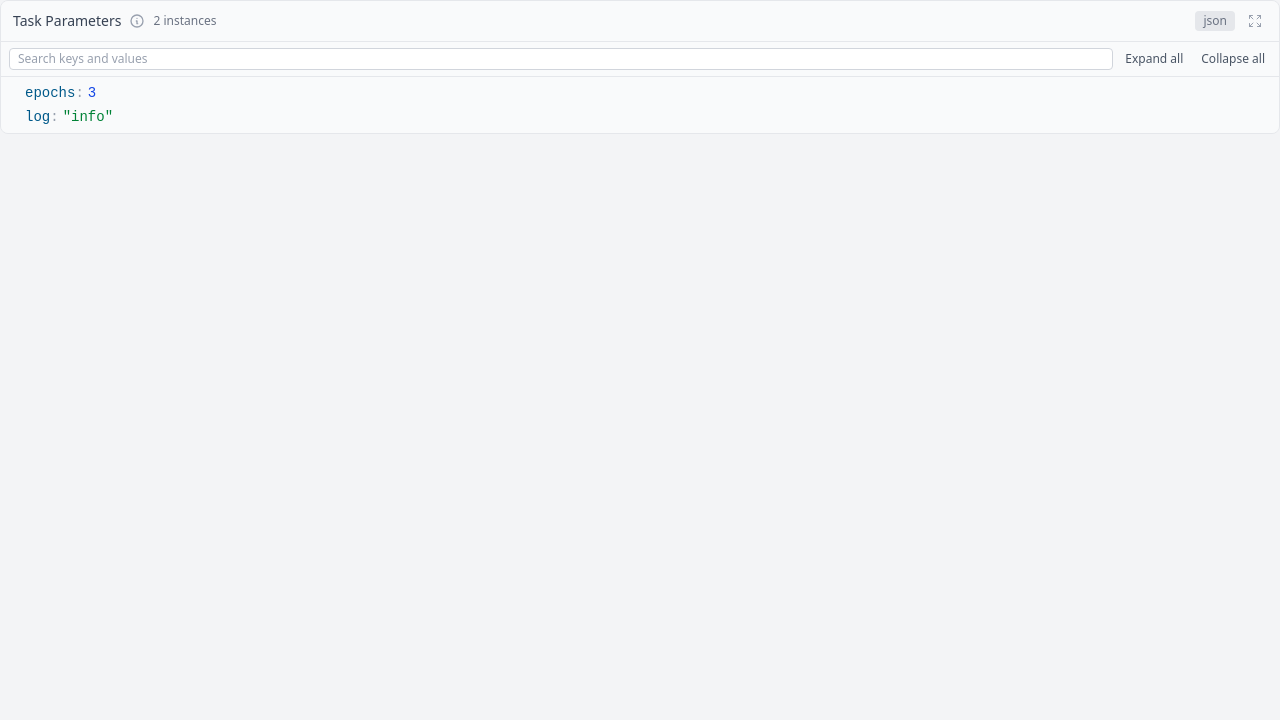
Test: TaskParameters › opens the instance's scope and the other instances from the info icon
Click the button named "Instance info" at (138, 21), box [128,11,148,31]
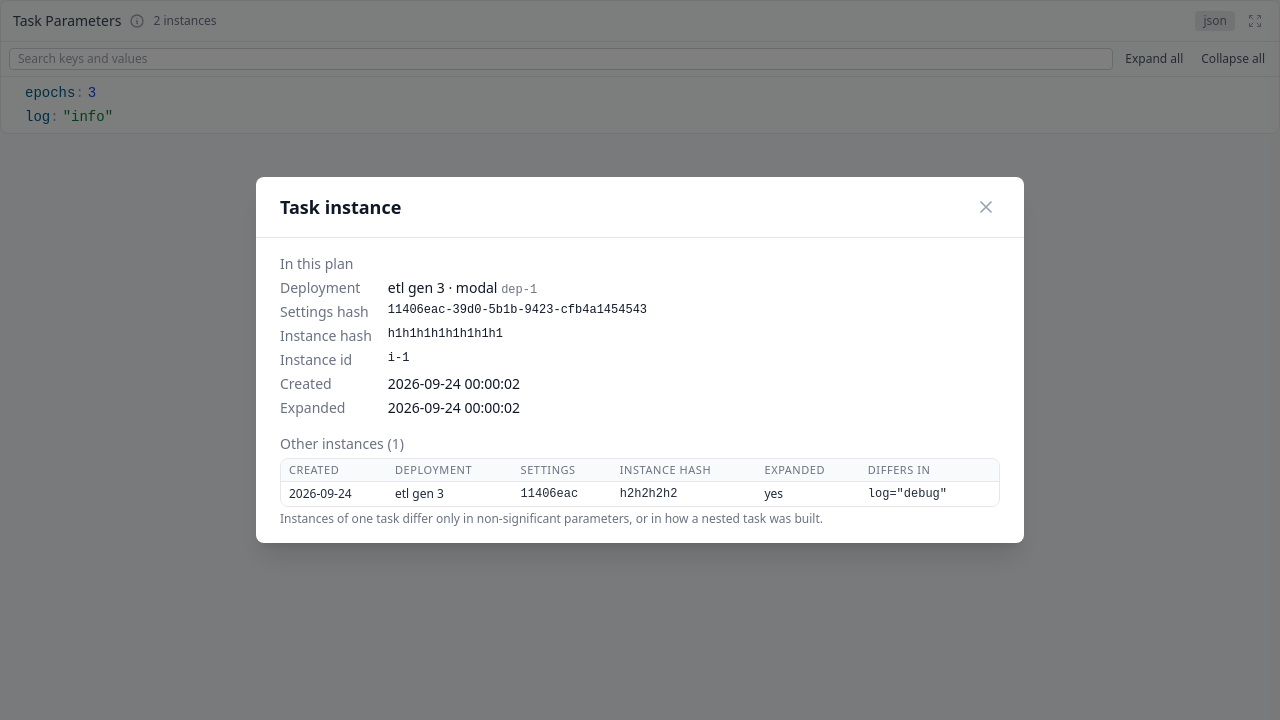
expect the heading "In this plan" is shown: met, box [280,254,353,273]
expect the text "etl gen 3 · modal" is shown: met, box [388,278,498,297]
expect the text "i-1" is shown: met, box [388,351,409,365]
